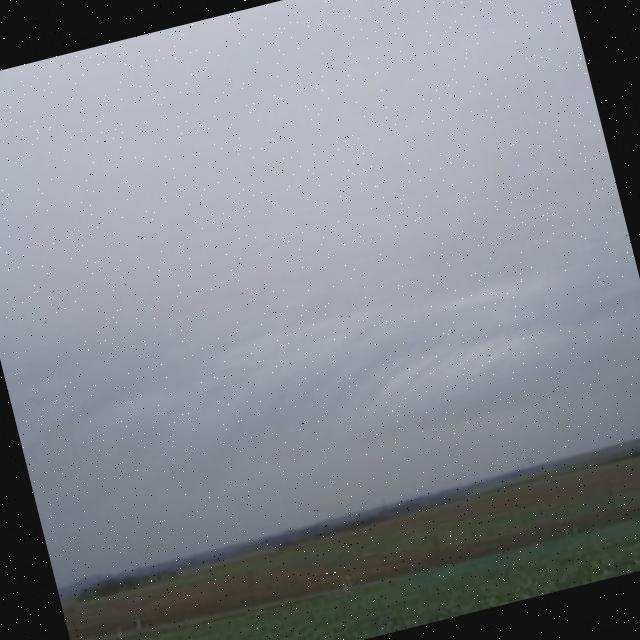As: (1, 1, 640, 558)
